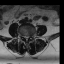CCS_normal: (25, 35, 27, 43)
LFS_severe_stenosis: (29, 34, 31, 38)
LLS_severe_stenosis: (27, 35, 29, 40)
RFS_severe_stenosis: (22, 34, 24, 38)
RLS_stenosis: (24, 34, 25, 40)
